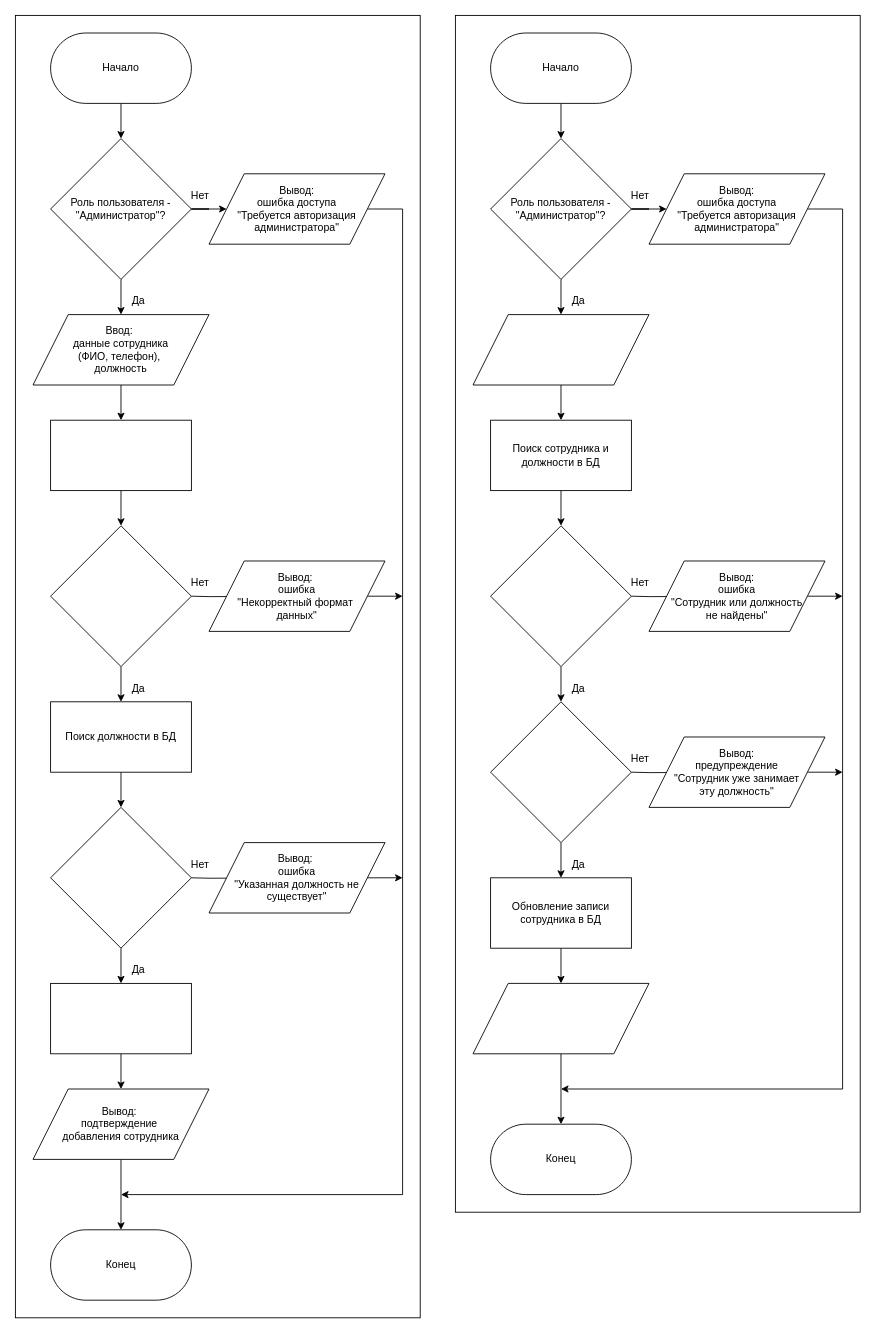
Some shapes in this 876 by 1333 pixel diagram are drawn without their labels. The centre of each missing label's shape, as x and y in pixels:
"Валидация данных" goes at (x=120, y=455).
"Ввод: данные сотрудника (ФИО, телефон), новая должность" goes at (x=560, y=349).
"Вывод: подтверждение перевода на должность" goes at (x=560, y=1018).
"Данные корректны?" goes at (x=120, y=596).
"Должность найдена?" goes at (x=120, y=877).
"Должность отличается от текущей?" goes at (x=560, y=772).
"Записи найдены?" goes at (x=560, y=596).
"Сохранение записи сотрудника в БД" goes at (x=120, y=1018).
